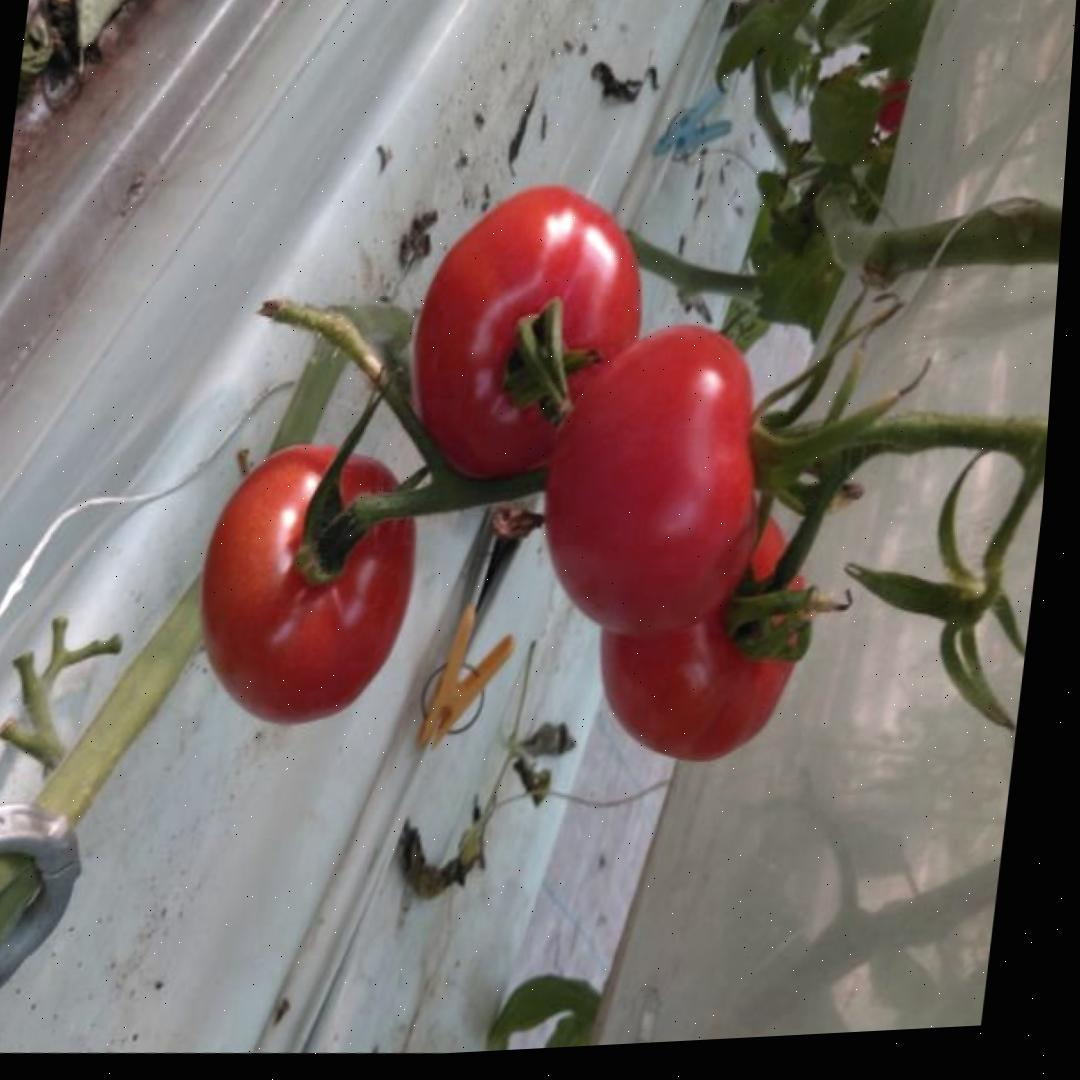matang: (529, 312, 778, 648), (396, 171, 655, 490), (185, 430, 427, 737), (581, 487, 816, 770)
